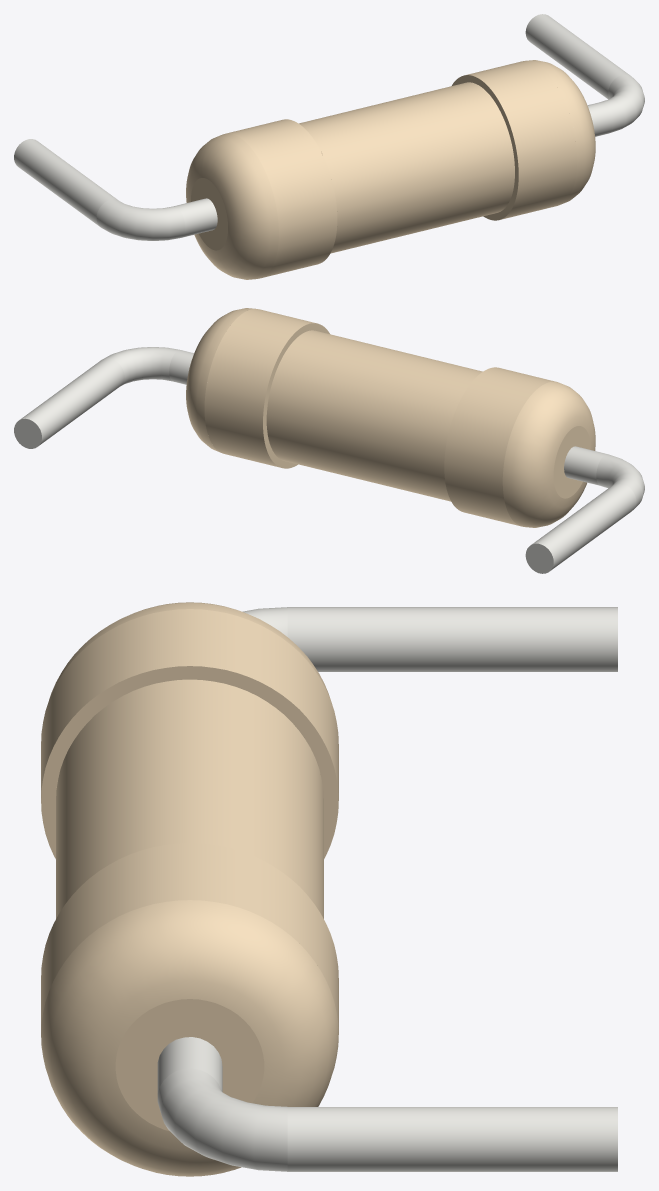
File: R_Axial_DIN0309_L9.0mm_D3.2mm_P12.70mm_Horizontal.glb
The picture shows the model from 3 angles, top to bottom: view 1: azimuth 30°, elevation 25°; view 2: azimuth 150°, elevation 25°; view 3: azimuth 270°, elevation 25°; orthographic projection. The views are drawn at different scales.
Visible parts, largest first — view 1: Shape_IndexedFaceSet.004, Shape_IndexedFaceSet, Shape_IndexedFaceSet.008, Shape_IndexedFaceSet.001, Shape_IndexedFaceSet.015, Shape_IndexedFaceSet.009, Shape_IndexedFaceSet.007, Shape_IndexedFaceSet.010, Shape_IndexedFaceSet.014, Shape_IndexedFaceSet.003, Shape_IndexedFaceSet.005, Shape_IndexedFaceSet.006 (+1 smaller); view 2: Shape_IndexedFaceSet.004, Shape_IndexedFaceSet.008, Shape_IndexedFaceSet, Shape_IndexedFaceSet.001, Shape_IndexedFaceSet.009, Shape_IndexedFaceSet.015, Shape_IndexedFaceSet.010, Shape_IndexedFaceSet.014, Shape_IndexedFaceSet.007, Shape_IndexedFaceSet.003, Shape_IndexedFaceSet.005, Shape_IndexedFaceSet.006 (+3 smaller); view 3: Shape_IndexedFaceSet.010, Shape_IndexedFaceSet.004, Shape_IndexedFaceSet.015, Shape_IndexedFaceSet.009, Shape_IndexedFaceSet.008, Shape_IndexedFaceSet, Shape_IndexedFaceSet.012, Shape_IndexedFaceSet.014, Shape_IndexedFaceSet.002, Shape_IndexedFaceSet.013, Shape_IndexedFaceSet.001.
Part boxes in pixels (x1,y1,x2,y2): Shape_IndexedFaceSet.004: [299, 82, 514, 253]; Shape_IndexedFaceSet: [226, 119, 337, 278]; Shape_IndexedFaceSet.008: [465, 61, 577, 219]; Shape_IndexedFaceSet.001: [186, 133, 278, 279]; Shape_IndexedFaceSet.015: [525, 14, 630, 99]; Shape_IndexedFaceSet.009: [14, 139, 117, 227]; Shape_IndexedFaceSet.007: [96, 199, 185, 240]; Shape_IndexedFaceSet.010: [525, 60, 595, 204]; Shape_IndexedFaceSet.014: [601, 74, 644, 133]; Shape_IndexedFaceSet.003: [191, 178, 227, 250]; Shape_IndexedFaceSet.005: [174, 198, 217, 237]; Shape_IndexedFaceSet.006: [452, 75, 518, 220]; Shape_IndexedFaceSet.004: [266, 330, 482, 501]; Shape_IndexedFaceSet.008: [204, 309, 315, 467]; Shape_IndexedFaceSet: [444, 367, 556, 526]; Shape_IndexedFaceSet.001: [502, 381, 595, 527]; Shape_IndexedFaceSet.009: [531, 483, 636, 570]; Shape_IndexedFaceSet.015: [20, 358, 124, 445]; Shape_IndexedFaceSet.010: [186, 308, 255, 452]; Shape_IndexedFaceSet.014: [104, 347, 179, 385]; Shape_IndexedFaceSet.007: [596, 454, 644, 508]; Shape_IndexedFaceSet.003: [553, 426, 590, 498]; Shape_IndexedFaceSet.005: [564, 446, 607, 485]; Shape_IndexedFaceSet.006: [263, 323, 329, 468]; Shape_IndexedFaceSet.010: [41, 900, 338, 1176]; Shape_IndexedFaceSet.004: [56, 679, 323, 918]; Shape_IndexedFaceSet.015: [287, 1107, 617, 1171]; Shape_IndexedFaceSet.009: [287, 607, 617, 671]; Shape_IndexedFaceSet.008: [41, 843, 338, 1034]; Shape_IndexedFaceSet: [41, 609, 338, 800]; Shape_IndexedFaceSet.012: [115, 999, 264, 1131]; Shape_IndexedFaceSet.014: [157, 1068, 287, 1171]; Shape_IndexedFaceSet.002: [41, 666, 338, 858]; Shape_IndexedFaceSet.013: [157, 1037, 222, 1092]; Shape_IndexedFaceSet.001: [49, 602, 330, 698].
Size of the model in its own units: 5.27 by 1.26 by 2.44.
